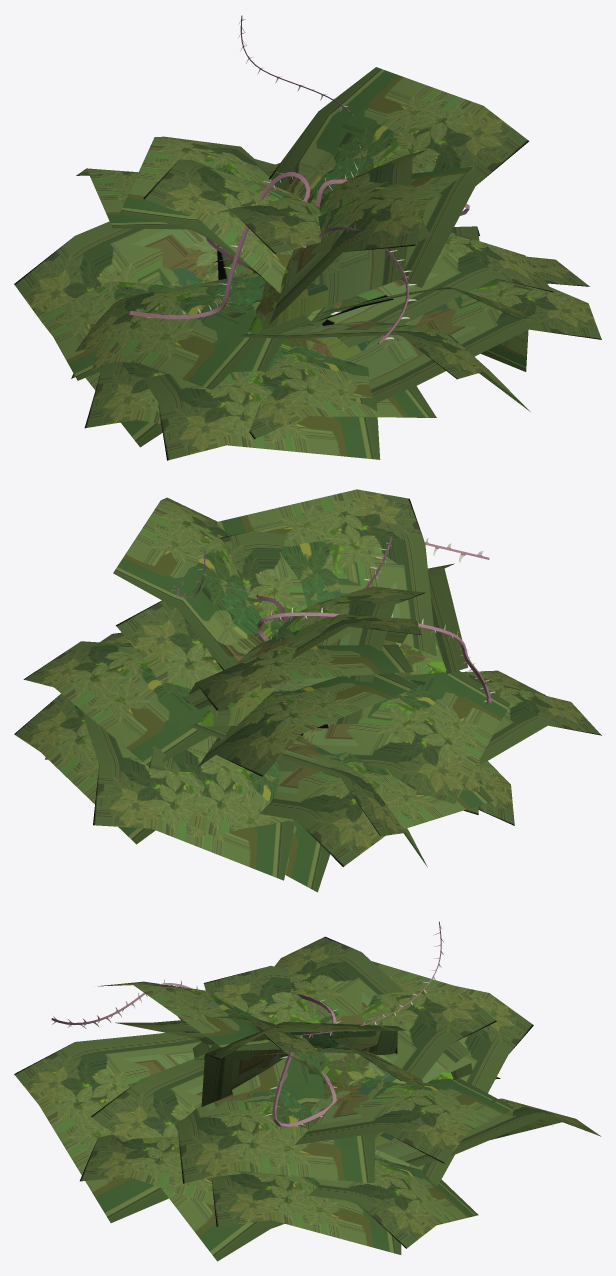
Rendered from RP_Enviorment_Blackberry_Bush_03_.fbx.
The picture shows the model from 3 angles, top to bottom: view 1: azimuth 30°, elevation 25°; view 2: azimuth 150°, elevation 25°; view 3: azimuth 270°, elevation 25°; orthographic projection. The views are drawn at different scales.
Visible parts, largest first — view 1: group29_pasted__group_pasted__pPlane4, group3_pasted__pCylinder1; view 2: group29_pasted__group_pasted__pPlane4, group3_pasted__pCylinder1; view 3: group29_pasted__group_pasted__pPlane4, group3_pasted__pCylinder1.
Boxes of the visible parts, x1,y1,x2,y2 form: group29_pasted__group_pasted__pPlane4: [14, 67, 601, 460]; group3_pasted__pCylinder1: [129, 15, 469, 344]; group29_pasted__group_pasted__pPlane4: [14, 489, 601, 892]; group3_pasted__pCylinder1: [171, 535, 495, 704]; group29_pasted__group_pasted__pPlane4: [14, 936, 600, 1261]; group3_pasted__pCylinder1: [51, 921, 443, 1127].
Bounding box in the file's own units: 2.64 × 1.84 × 3.22.
